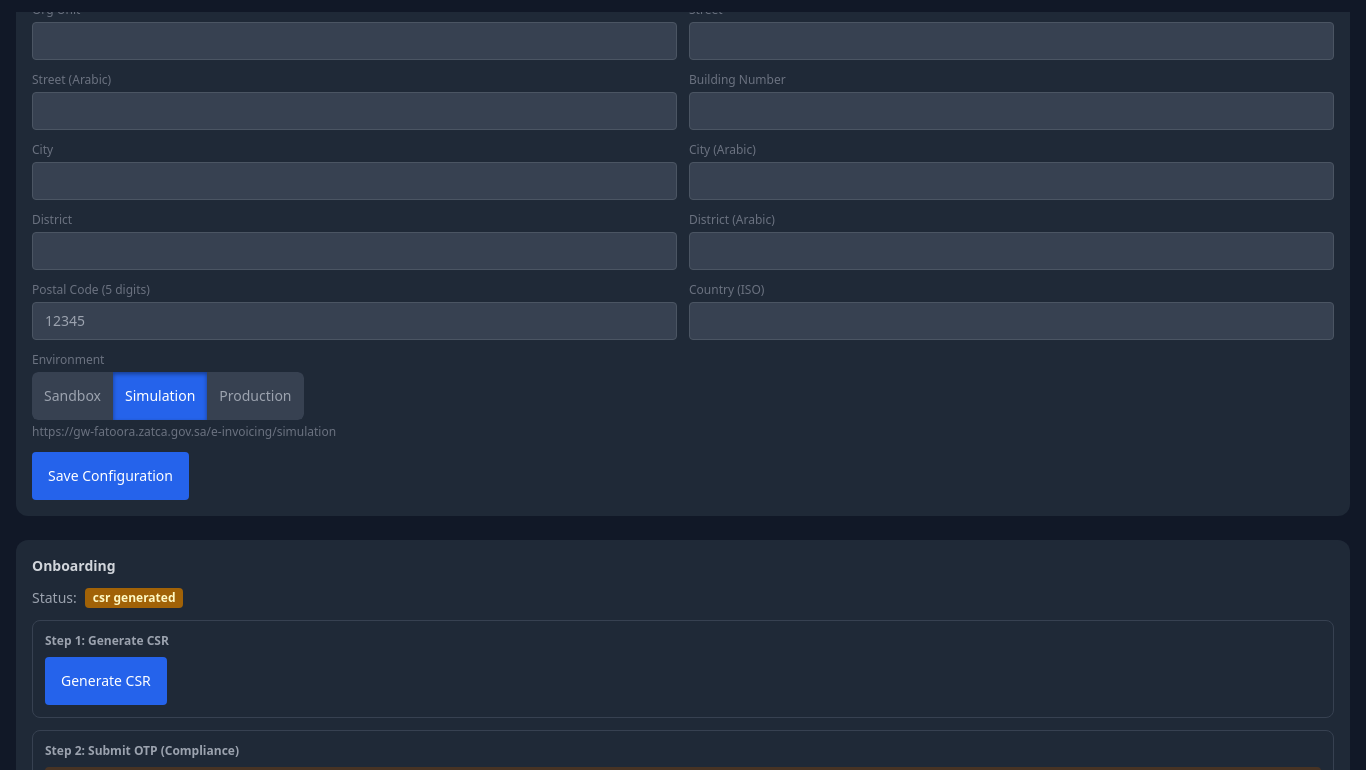
ZatcaPage — sandbox autofill › fills seller config fields with sandbox defaults when Sandbox is clicked
(page scrolled)
Note: Click the "Sandbox" button
Click the button "Sandbox": [72, 396] box [32, 372, 113, 420]
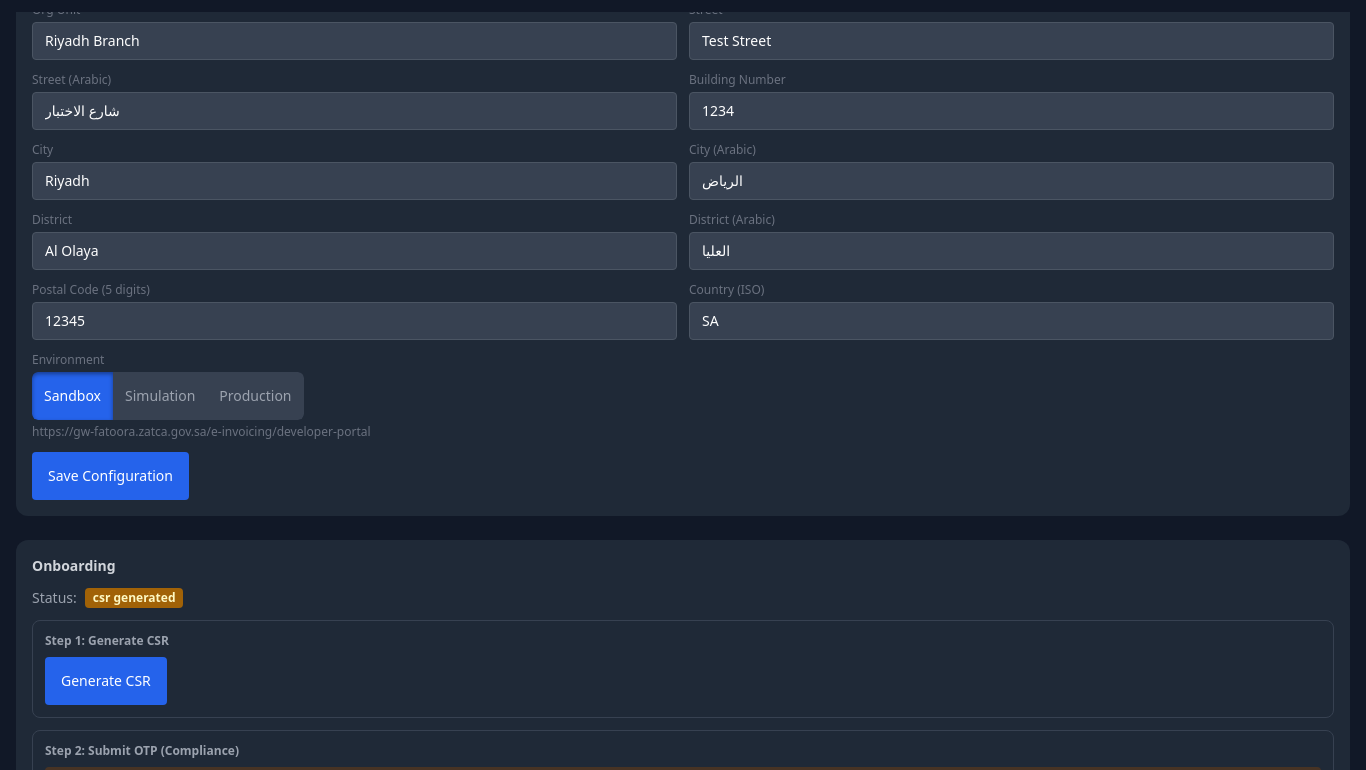
expect the 2nd field showing "Test Street" is shown: met, box [689, 22, 1334, 60]
expect the field showing "1234" below "Building Number" is shown: met, box [689, 92, 1334, 130]
expect the 5th field showing "Riyadh" is shown: met, box [32, 162, 677, 200]
